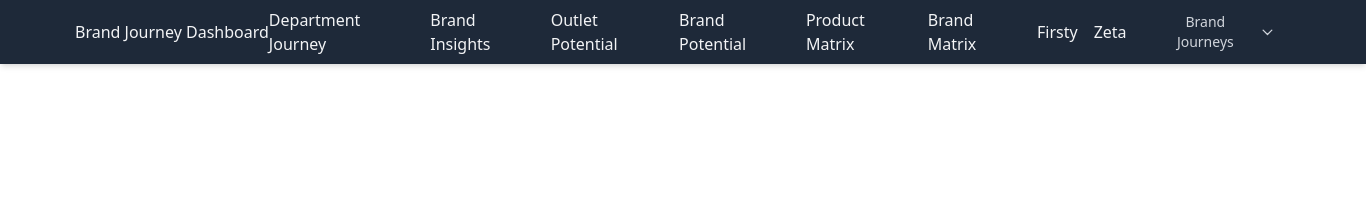
Scenario: Navigation Component › should open dropdown when Brand Journeys button is clicked
Expected: the field with placeholder "Search brands..." is not shown
# Click to open dropdown
Click the button "Brand Journeys" at (1217, 32), box [1143,4,1291,60]
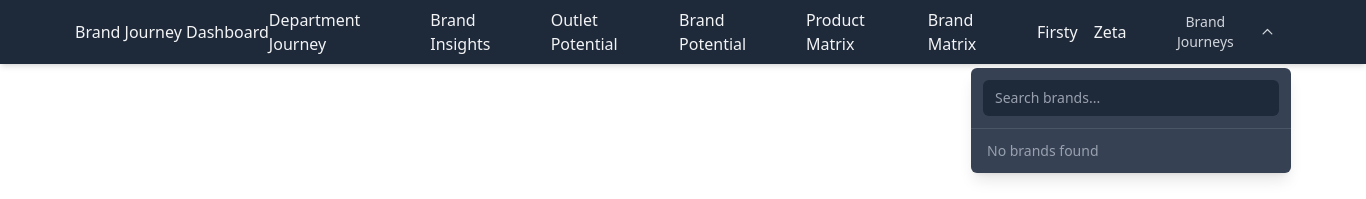
Expected: the field with placeholder "Search brands..." is shown, [983,80,1279,116]
